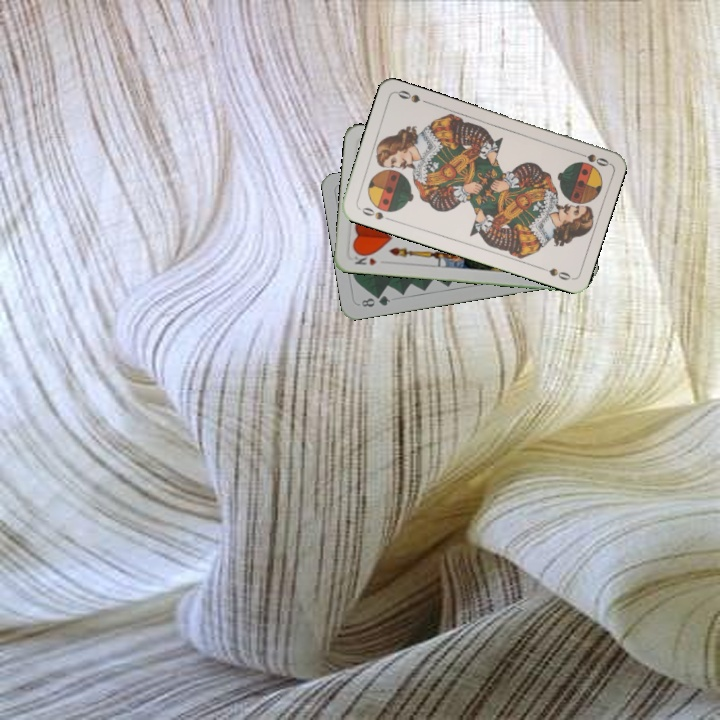G8: (357, 291, 393, 310)
HK: (350, 249, 379, 268)
SO: (571, 148, 611, 169), (358, 203, 394, 223)
